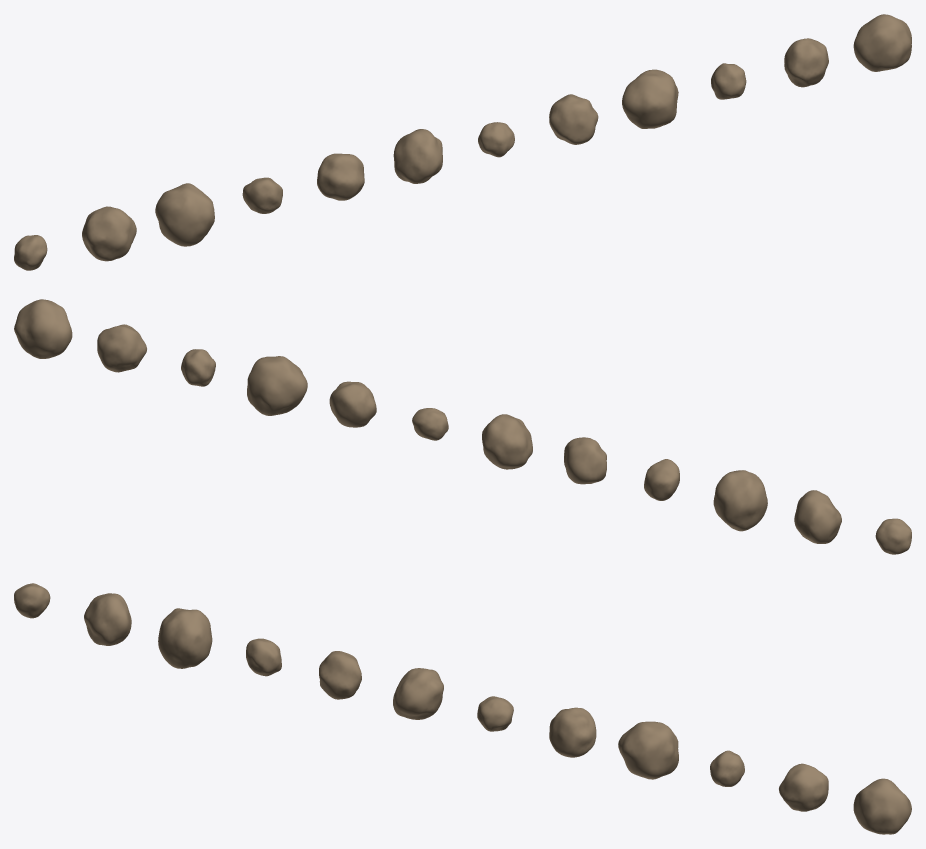
The model's file is Ore_Mud_Lumps.fbx.
The picture shows the model from 3 angles, top to bottom: view 1: azimuth 30°, elevation 25°; view 2: azimuth 150°, elevation 25°; view 3: azimuth 330°, elevation 25°; orthographic projection.
Parts seen in each view (by area): view 1: Ore_Mud_02, Ore_Mud_11, Ore_Mud_08, Ore_Mud_01, Ore_Mud_05, Ore_Mud_07, Ore_Mud_04, Ore_Mud_10, Ore_Mud_03, Ore_Mud_09, Ore_Mud_06, Ore_Mud_00; view 2: Ore_Mud_08, Ore_Mud_11, Ore_Mud_02, Ore_Mud_05, Ore_Mud_01, Ore_Mud_10, Ore_Mud_07, Ore_Mud_04, Ore_Mud_03, Ore_Mud_00, Ore_Mud_09, Ore_Mud_06; view 3: Ore_Mud_08, Ore_Mud_02, Ore_Mud_11, Ore_Mud_05, Ore_Mud_01, Ore_Mud_07, Ore_Mud_10, Ore_Mud_04, Ore_Mud_03, Ore_Mud_06, Ore_Mud_00, Ore_Mud_09.
Part boxes in pixels (left/top/right/bottom): Ore_Mud_02: left=155, top=183, right=214, bottom=246; Ore_Mud_11: left=853, top=14, right=911, bottom=71; Ore_Mud_08: left=622, top=69, right=678, bottom=128; Ore_Mud_01: left=82, top=206, right=136, bottom=261; Ore_Mud_05: left=393, top=129, right=442, bottom=183; Ore_Mud_07: left=549, top=94, right=598, bottom=144; Ore_Mud_04: left=317, top=153, right=364, bottom=200; Ore_Mud_10: left=784, top=38, right=828, bottom=87; Ore_Mud_03: left=242, top=177, right=282, bottom=213; Ore_Mud_09: left=711, top=63, right=746, bottom=99; Ore_Mud_06: left=478, top=122, right=514, bottom=157; Ore_Mud_00: left=14, top=235, right=47, bottom=270; Ore_Mud_08: left=247, top=356, right=307, bottom=415; Ore_Mud_11: left=14, top=299, right=72, bottom=358; Ore_Mud_02: left=713, top=470, right=767, bottom=531; Ore_Mud_05: left=482, top=414, right=532, bottom=469; Ore_Mud_01: left=794, top=490, right=841, bottom=543; Ore_Mud_10: left=97, top=324, right=146, bottom=372; Ore_Mud_07: left=329, top=381, right=376, bottom=427; Ore_Mud_04: left=564, top=437, right=606, bottom=484; Ore_Mud_03: left=644, top=459, right=679, bottom=500; Ore_Mud_00: left=875, top=518, right=911, bottom=554; Ore_Mud_09: left=181, top=349, right=215, bottom=386; Ore_Mud_06: left=412, top=408, right=448, bottom=440; Ore_Mud_08: left=618, top=721, right=678, bottom=779; Ore_Mud_02: left=158, top=608, right=212, bottom=668; Ore_Mud_11: left=853, top=778, right=911, bottom=834; Ore_Mud_05: left=393, top=668, right=443, bottom=719; Ore_Mud_01: left=84, top=593, right=131, bottom=645; Ore_Mud_07: left=549, top=707, right=596, bottom=757; Ore_Mud_10: left=779, top=763, right=828, bottom=811; Ore_Mud_04: left=319, top=651, right=361, bottom=699; Ore_Mud_03: left=246, top=638, right=281, bottom=676; Ore_Mud_06: left=477, top=696, right=513, bottom=731; Ore_Mud_00: left=14, top=583, right=50, bottom=618; Ore_Mud_09: left=710, top=750, right=744, bottom=786.
Size of the model in its own units: 13.85 by 0.815 by 0.7856.
